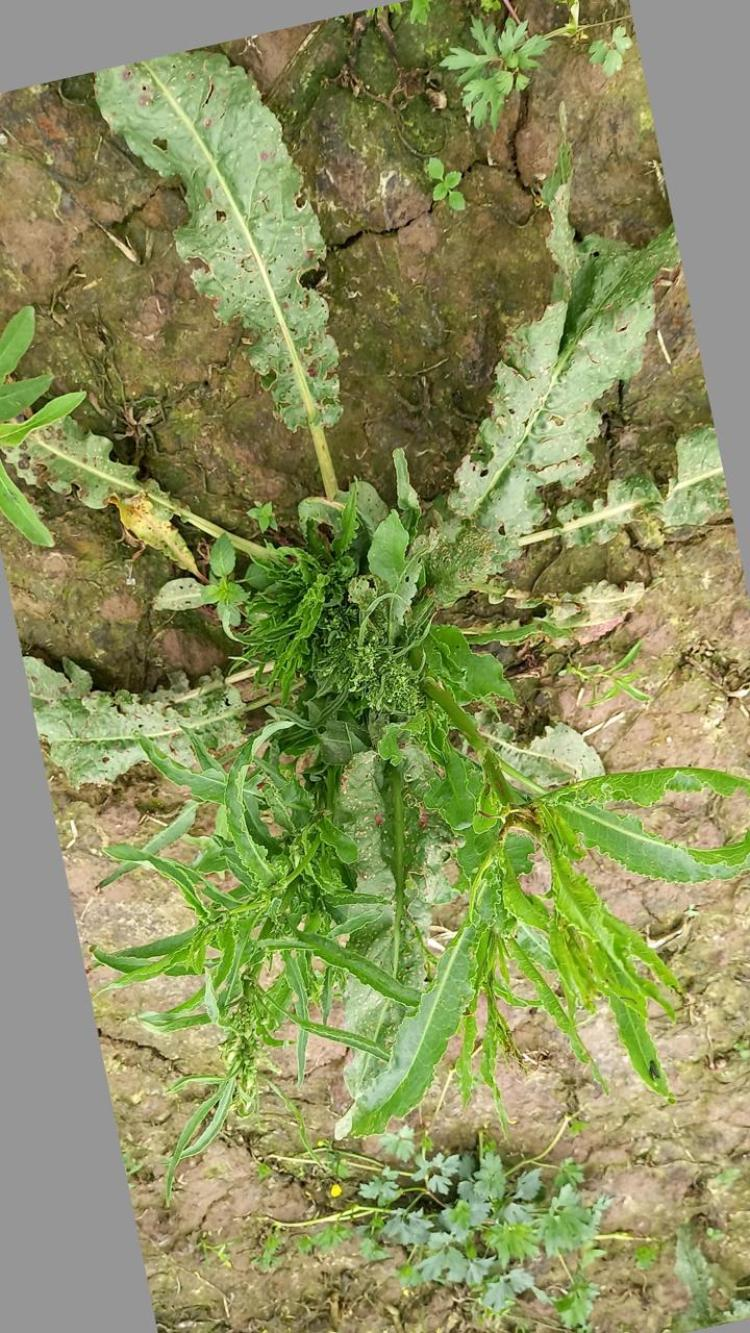zhavel: (27, 438, 748, 1162)
